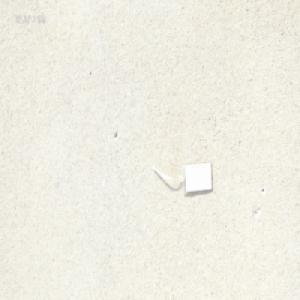LuggageTag: (150, 160, 212, 196)
